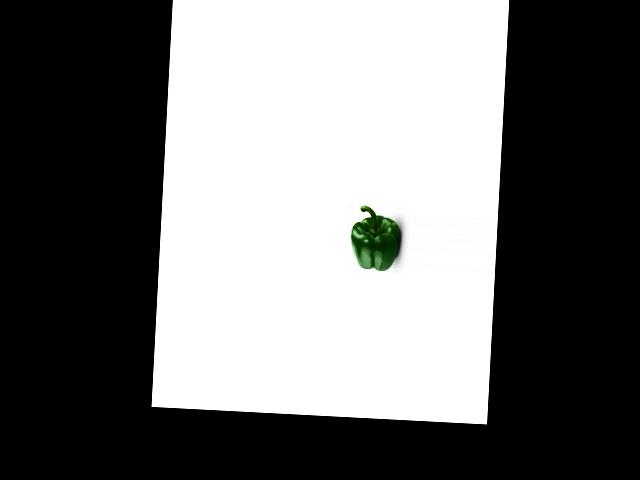bell_pepper: (348, 203, 401, 273)
